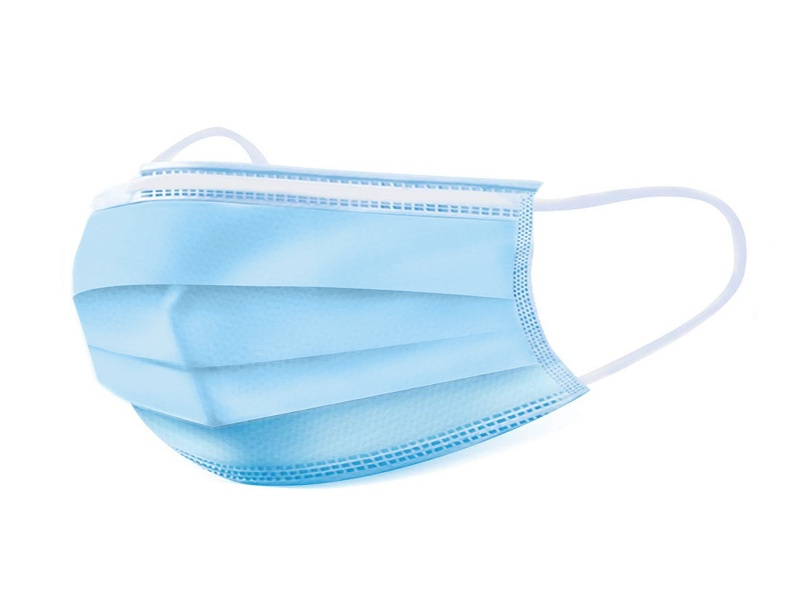mask: (69, 158, 598, 489)
